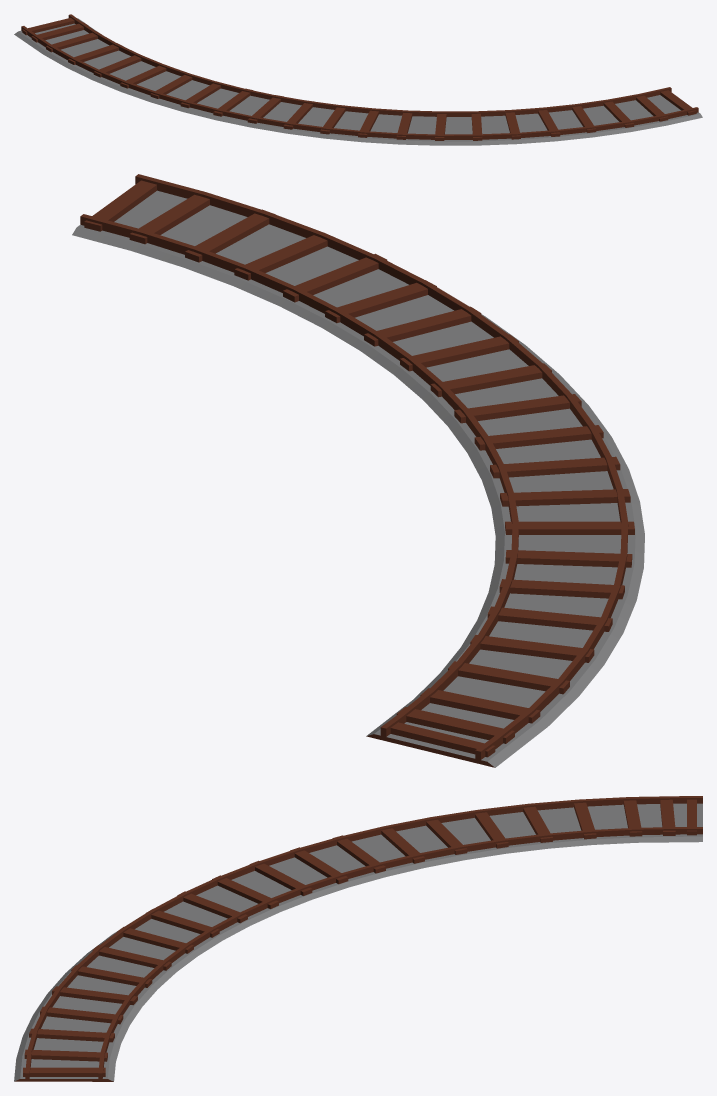
File: SM_rails_03.glb
3 renders of one model, top to bottom at view 1: azimuth 30°, elevation 25°; view 2: azimuth 150°, elevation 25°; view 3: azimuth 270°, elevation 25°, orthographic. The views are drawn at different scales.
Visible parts, largest first — view 1: SM_rails_03; view 2: SM_rails_03; view 3: SM_rails_03.
Part boxes in pixels (x1=…): SM_rails_03: x1=14, y1=14, x2=702, y2=145; SM_rails_03: x1=72, y1=174, x2=644, y2=767; SM_rails_03: x1=14, y1=796, x2=702, y2=1081.
Bounding box in the file's own units: 10 × 0.1401 × 10.33.
Materials: 1 (1 with a texture image).
